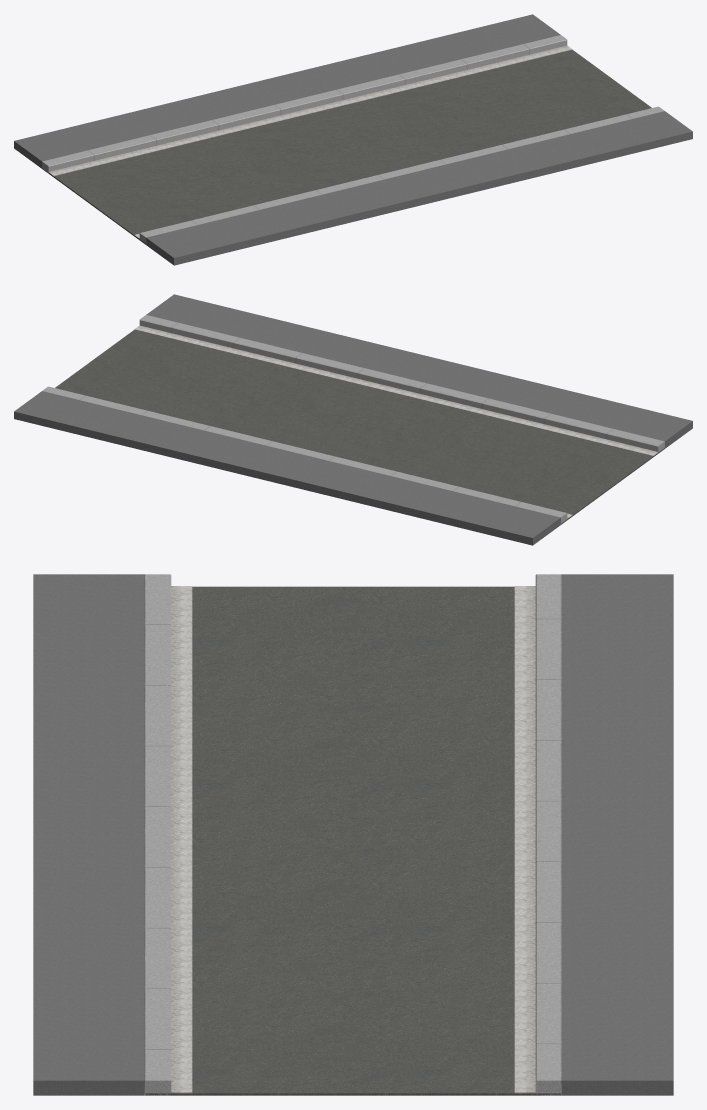
File: route1VoieAvecTrottoirs.obj
3 renders of one model, top to bottom at view 1: azimuth 30°, elevation 25°; view 2: azimuth 150°, elevation 25°; view 3: azimuth 270°, elevation 25°, orthographic. The views are drawn at different scales.
Visible parts, largest first — view 1: roadDroit1VoieAvecTrottoirs_Plane.018; view 2: roadDroit1VoieAvecTrottoirs_Plane.018; view 3: roadDroit1VoieAvecTrottoirs_Plane.018.
Part boxes in pixels (x1,y1,x2,y2): roadDroit1VoieAvecTrottoirs_Plane.018: (14, 14, 692, 265); roadDroit1VoieAvecTrottoirs_Plane.018: (14, 294, 692, 545); roadDroit1VoieAvecTrottoirs_Plane.018: (33, 574, 673, 1095).
Bounding box in the file's own units: 1300 × 18 × 695.
